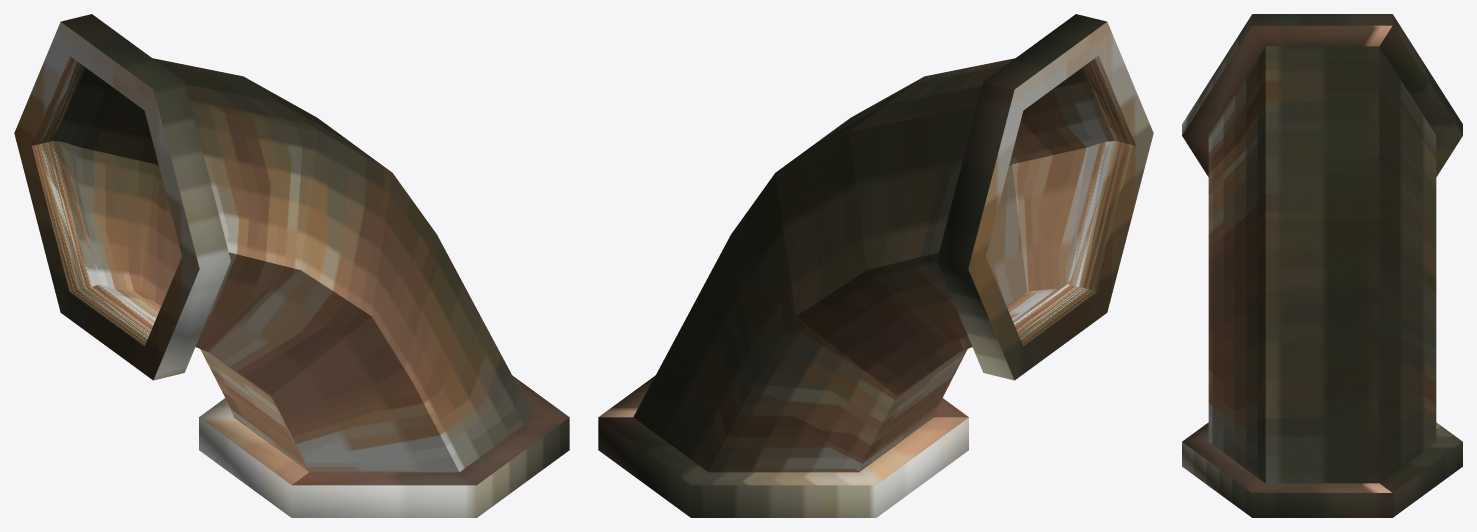
File: pipes_corner.fbx
3 renders of one model, left to right at view 1: azimuth 30°, elevation 25°; view 2: azimuth 150°, elevation 25°; view 3: azimuth 270°, elevation 25°, orthographic. The views are drawn at different scales.
Visible parts, largest first — view 1: CurveSmallOpen.009; view 2: CurveSmallOpen.009; view 3: CurveSmallOpen.009.
Boxes of the visible parts, box(x1,y1,x2,y2) form: CurveSmallOpen.009: box(14, 14, 569, 517); CurveSmallOpen.009: box(598, 14, 1153, 517); CurveSmallOpen.009: box(1182, 14, 1462, 517).
Bounding box in the file's own units: 79.9 × 84.75 × 61.63.
